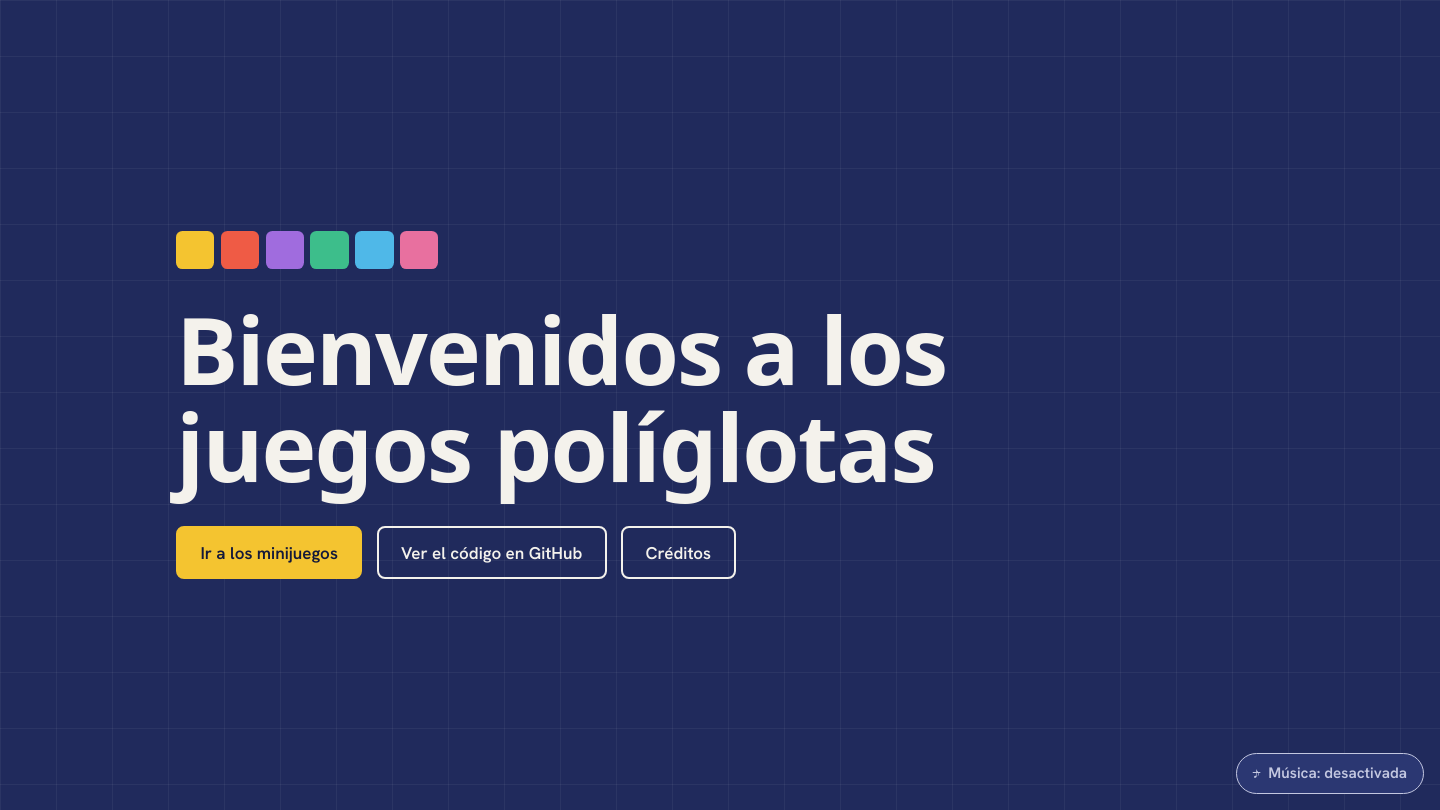
Test: Ir a los minijuegos cambia de escenario dentro de la web
Click the link "Ir a los minijuegos" at point(269, 553), box [176,526,362,579]
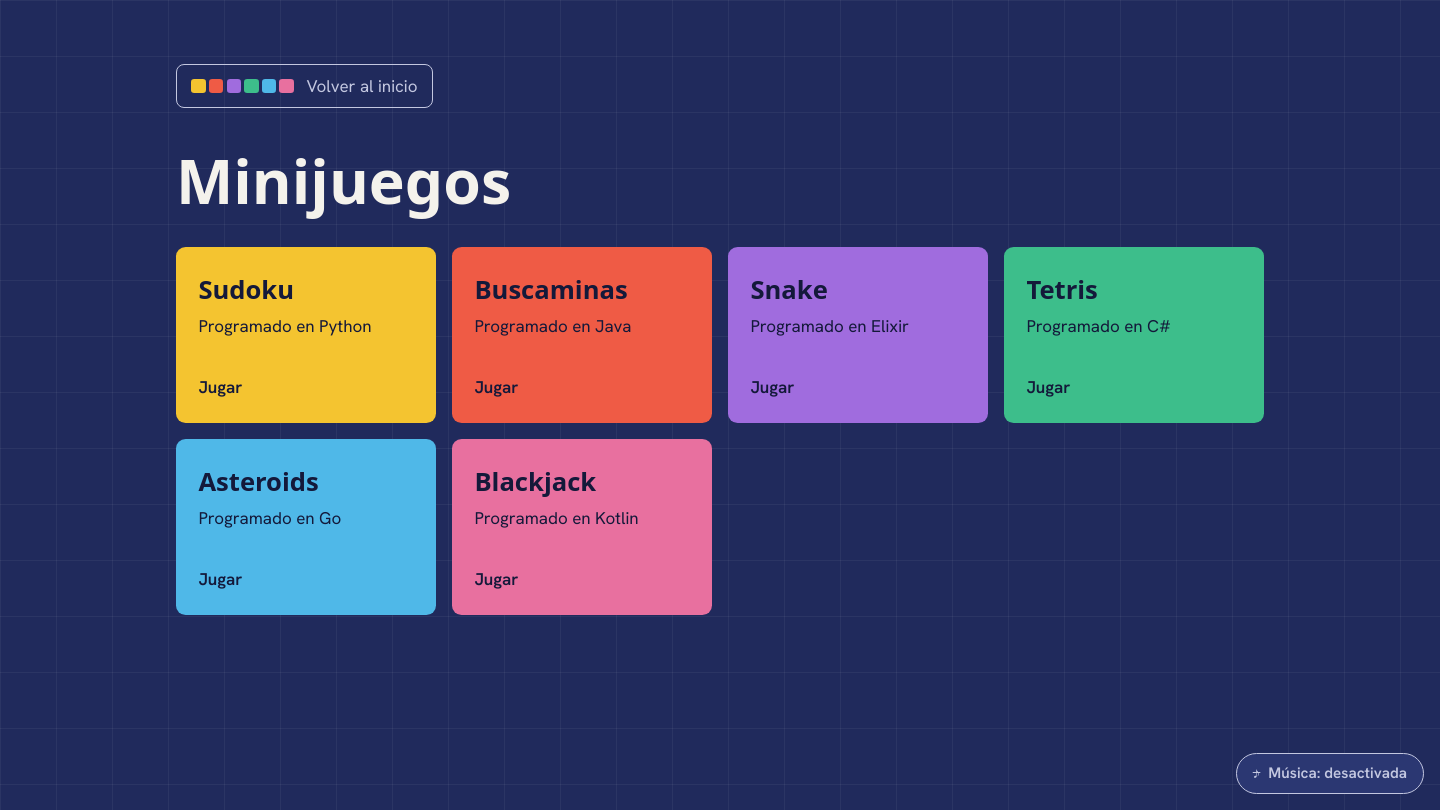
Check: the heading "Minijuegos" is shown, box [176,139,511,222]
Check: the text "Sudoku" is shown, box [198,272,294,307]
